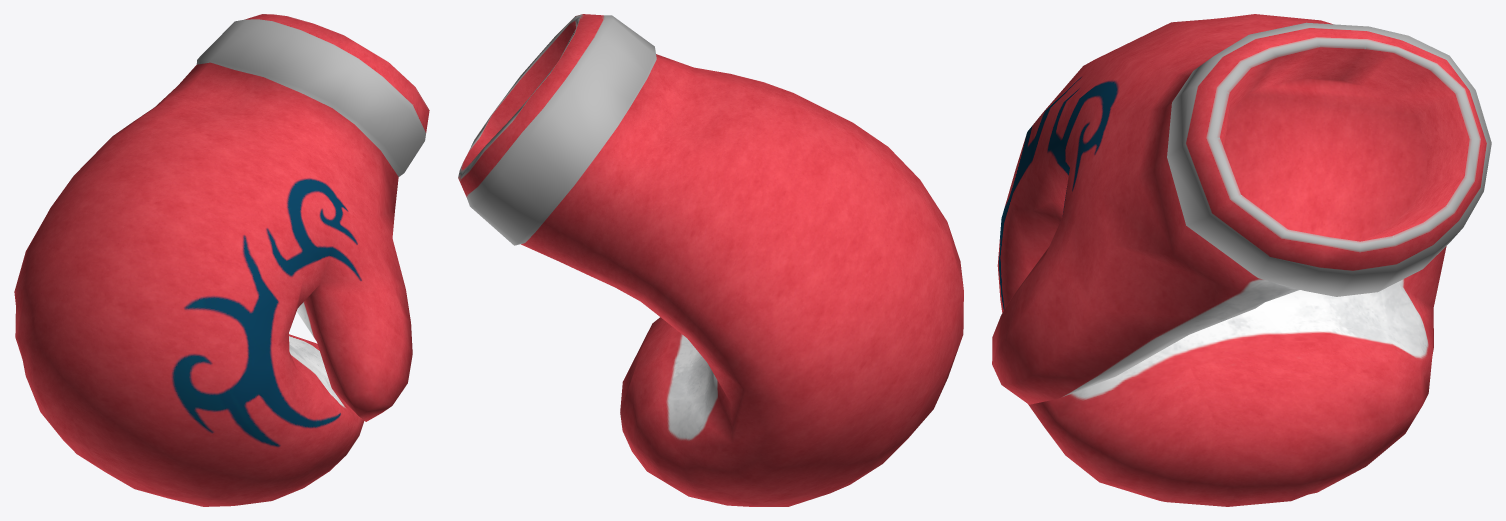
Rendered from boxRight.fbx.
3 views of the same model, side by side, from view 1: azimuth 30°, elevation 25°; view 2: azimuth 150°, elevation 25°; view 3: azimuth 270°, elevation 25° (orthographic). The views are drawn at different scales.
Parts seen in each view (by area): view 1: boxRight; view 2: boxRight; view 3: boxRight.
Part boxes in pixels (x1,y1,x2,y2): boxRight: (14,14,429,506); boxRight: (458,14,963,506); boxRight: (992,14,1491,506).
Size of the model in its own units: 111 by 109 by 92.49.
